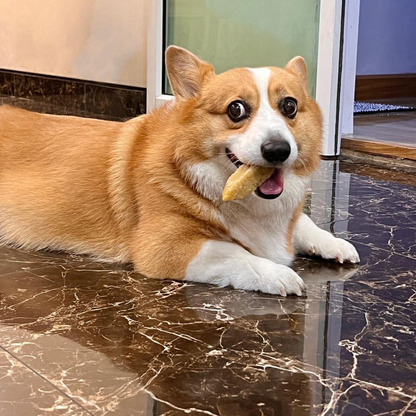Corgi: (116, 28, 368, 300)
